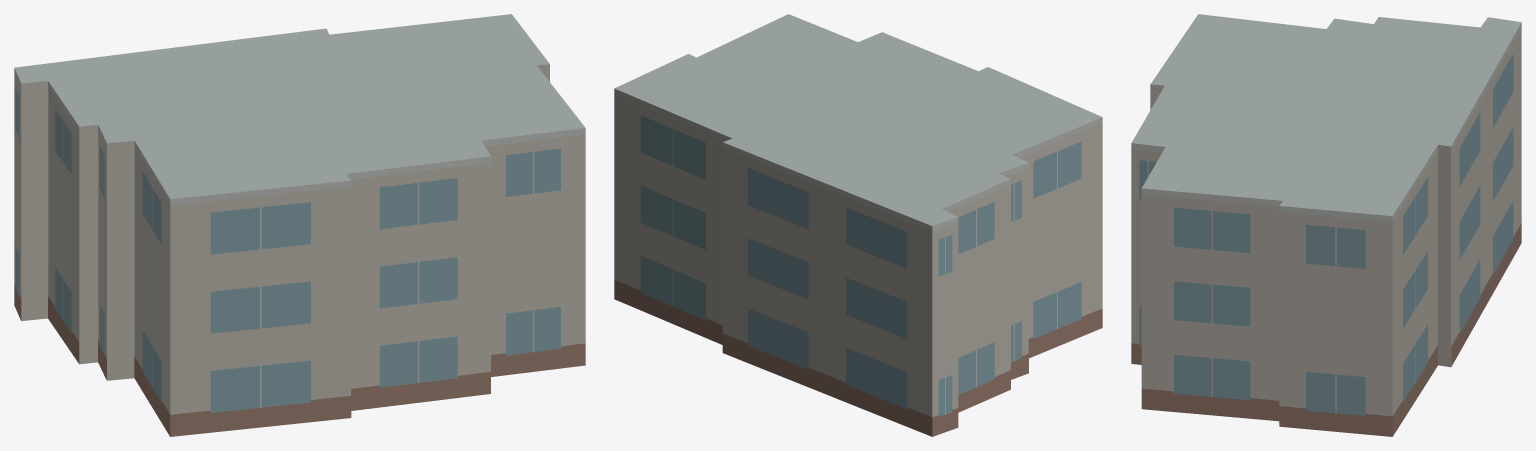
The model's file is survey-upis-32918284.glb.
3 views of the same model, side by side, from view 1: azimuth 30°, elevation 25°; view 2: azimuth 150°, elevation 25°; view 3: azimuth 270°, elevation 25° (orthographic). The views are drawn at different scales.
Visible parts, largest first — view 1: survey-upis-32918284.tmp; view 2: survey-upis-32918284.tmp; view 3: survey-upis-32918284.tmp.
Part boxes in pixels (x1,y1,x2,y2): survey-upis-32918284.tmp: (14,14,585,436); survey-upis-32918284.tmp: (614,14,1102,436); survey-upis-32918284.tmp: (1131,14,1521,436).
Bounding box in the file's own units: 17.99 × 9.15 × 14.68.
